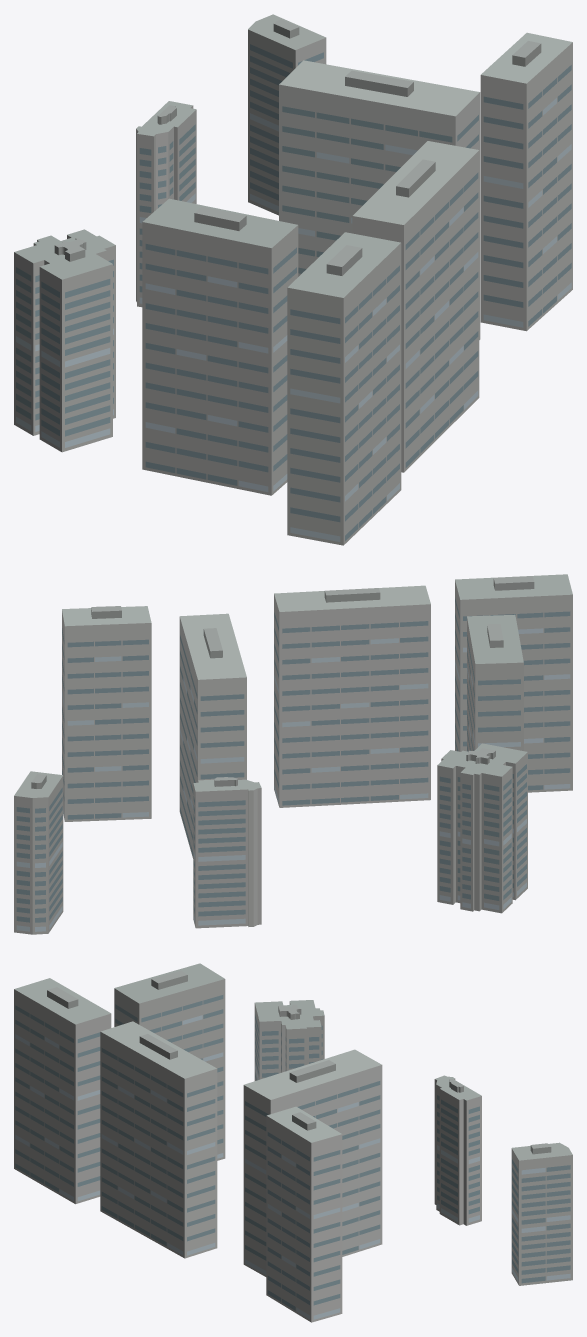
Rendered from apt-a13185602.glb.
3 renders of one model, top to bottom at view 1: azimuth 30°, elevation 25°; view 2: azimuth 150°, elevation 25°; view 3: azimuth 270°, elevation 25°, orthographic. The views are drawn at different scales.
Parts seen in each view (by area): view 1: apt-a13185602; view 2: apt-a13185602; view 3: apt-a13185602.
Boxes of the visible parts, left/top/right/bottom form: apt-a13185602: left=14, top=14, right=572, bottom=545; apt-a13185602: left=14, top=574, right=572, bottom=934; apt-a13185602: left=14, top=963, right=572, bottom=1322.
Bounding box in the file's own units: 155 × 68 × 185.
